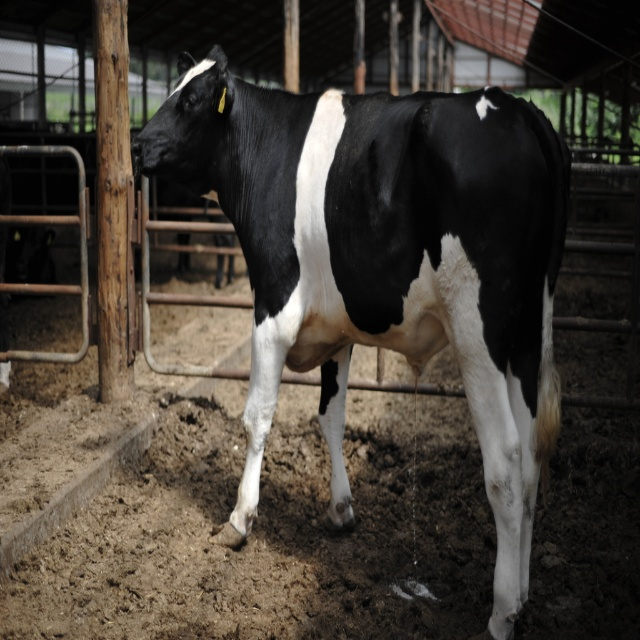Cattle: (130, 45, 572, 640)
